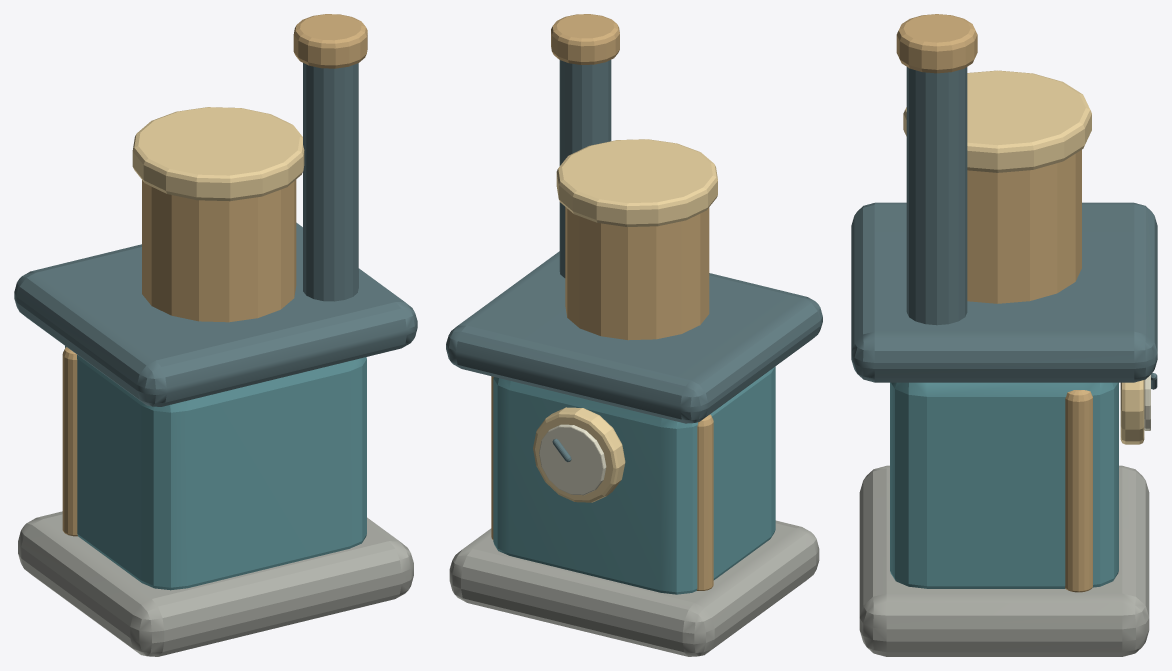
Rendered from workshop.glb.
3 views of the same model, side by side, from view 1: azimuth 30°, elevation 25°; view 2: azimuth 150°, elevation 25°; view 3: azimuth 270°, elevation 25° (orthographic). The views are drawn at different scales.
Parts seen in each view (by area): view 1: Surface_Enamel, Surface_Iron, Surface_WorkshopStone, Surface_Brass, Surface_PolishedRim; view 2: Surface_Enamel, Surface_Iron, Surface_Brass, Surface_WorkshopStone, Surface_PolishedRim, Surface_Ivory; view 3: Surface_Iron, Surface_Enamel, Surface_WorkshopStone, Surface_Brass, Surface_PolishedRim.
Part boxes in pixels (x1=…): Surface_Enamel: x1=65, y1=346, x2=366, y2=590; Surface_Iron: x1=14, y1=63, x2=417, y2=406; Surface_WorkshopStone: x1=18, y1=511, x2=413, y2=656; Surface_Brass: x1=62, y1=14, x2=367, y2=536; Surface_PolishedRim: x1=132, y1=107, x2=304, y2=201; Surface_Enamel: x1=493, y1=366, x2=775, y2=594; Surface_Iron: x1=446, y1=60, x2=822, y2=462; Surface_Brass: x1=491, y1=14, x2=713, y2=590; Surface_WorkshopStone: x1=449, y1=520, x2=819, y2=656; Surface_PolishedRim: x1=533, y1=139, x2=717, y2=502; Surface_Ivory: x1=539, y1=424, x2=606, y2=495; Surface_Iron: x1=851, y1=67, x2=1157, y2=389; Surface_Enamel: x1=890, y1=382, x2=1118, y2=588; Surface_WorkshopStone: x1=859, y1=465, x2=1149, y2=656; Surface_Brass: x1=896, y1=14, x2=1092, y2=592; Surface_PolishedRim: x1=903, y1=70, x2=1144, y2=444.
Size of the model in its own units: 1.04 by 1.99 by 0.91.
